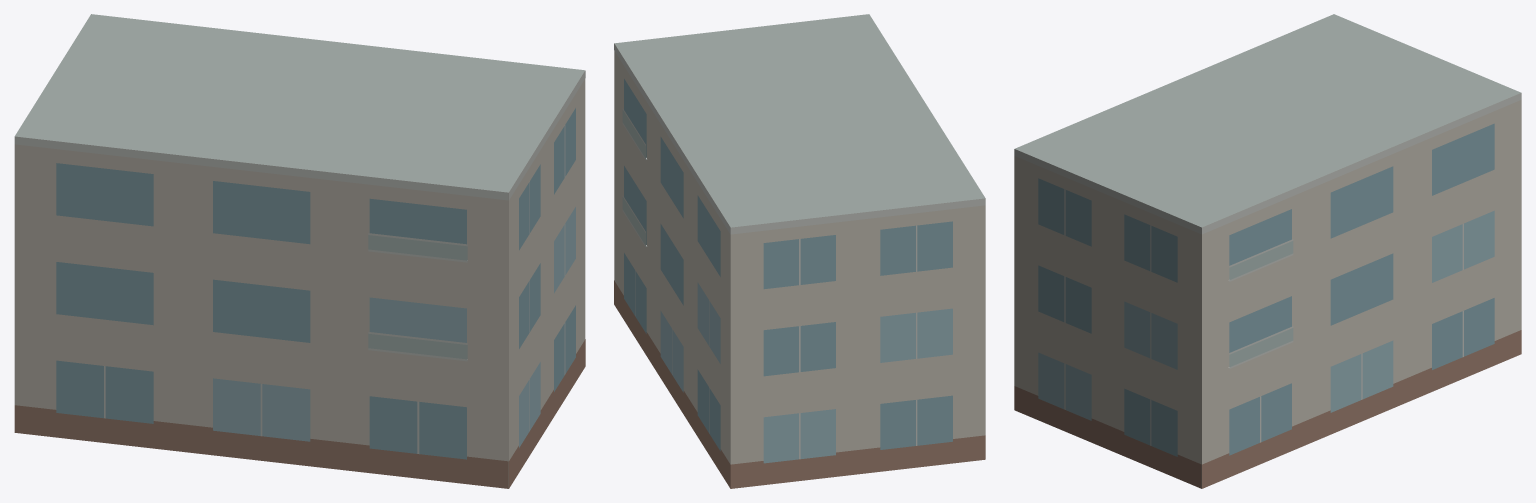
The model's file is survey-upis-32722294.glb.
3 views of the same model, side by side, from view 1: azimuth 30°, elevation 25°; view 2: azimuth 150°, elevation 25°; view 3: azimuth 270°, elevation 25° (orthographic). The views are drawn at different scales.
Parts seen in each view (by area): view 1: survey-upis-32722294.tmp; view 2: survey-upis-32722294.tmp; view 3: survey-upis-32722294.tmp.
Boxes of the visible parts, x1,y1,x2,y2 form: survey-upis-32722294.tmp: (14,14,585,488); survey-upis-32722294.tmp: (614,14,985,488); survey-upis-32722294.tmp: (1014,14,1521,488).
Size of the model in its own units: 16.04 by 9.15 by 16.1.
